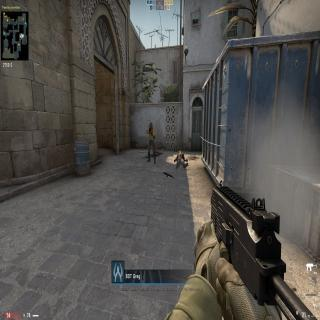T-Head: (150, 123, 152, 129)
